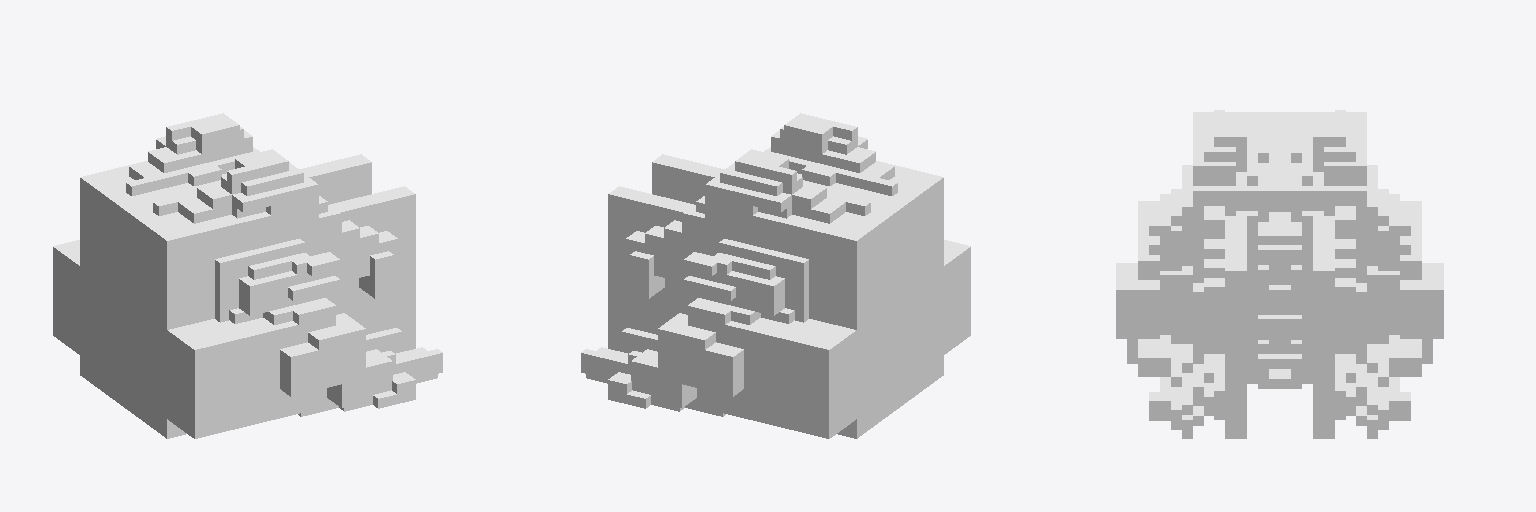
File: building03.obj
3 renders of one model, left to right at view 1: azimuth 30°, elevation 25°; view 2: azimuth 150°, elevation 25°; view 3: azimuth 270°, elevation 25°, orthographic.
Visible parts, largest first — view 1: object 1; view 2: object 1; view 3: object 1.
Part boxes in pixels (left/top/right/bottom): object 1: left=53, top=113, right=442, bottom=438; object 1: left=581, top=113, right=970, bottom=438; object 1: left=1116, top=110, right=1443, bottom=438.
Bounding box in the file's own units: 2.8 × 2.4 × 3.